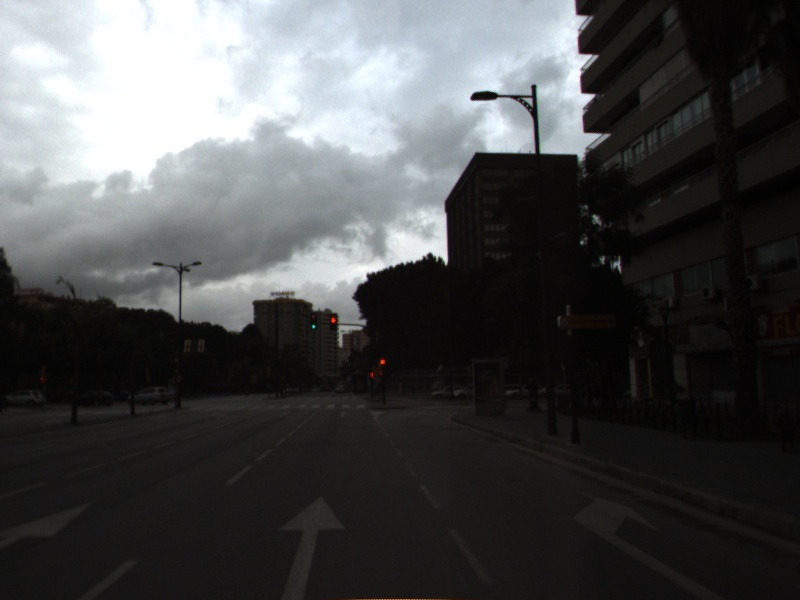RIGHT: (567, 484, 731, 600)
STRAIGHT: (274, 491, 352, 600), (1, 500, 99, 555)
